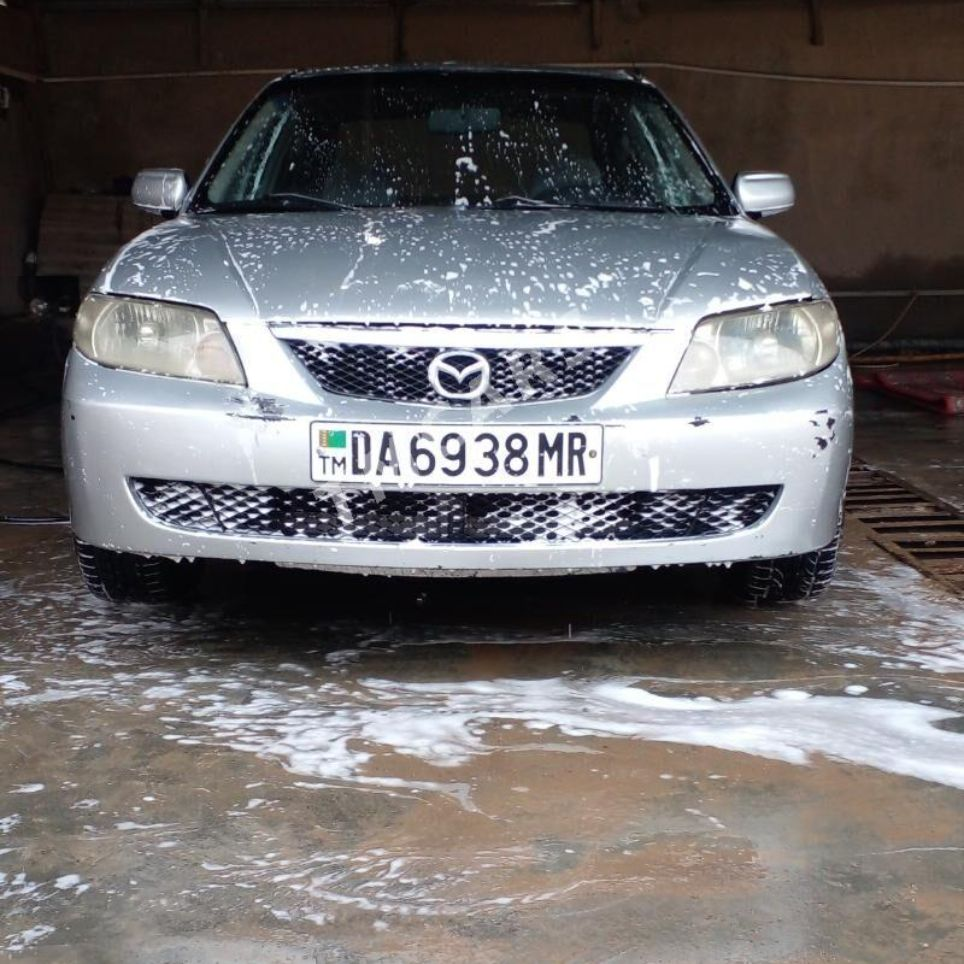license plate: (310, 417, 605, 485)
truck: (66, 53, 853, 611)
